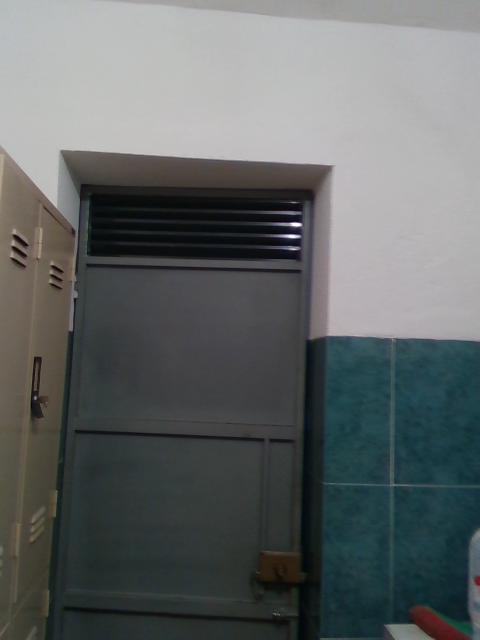door: (49, 185, 314, 640)
